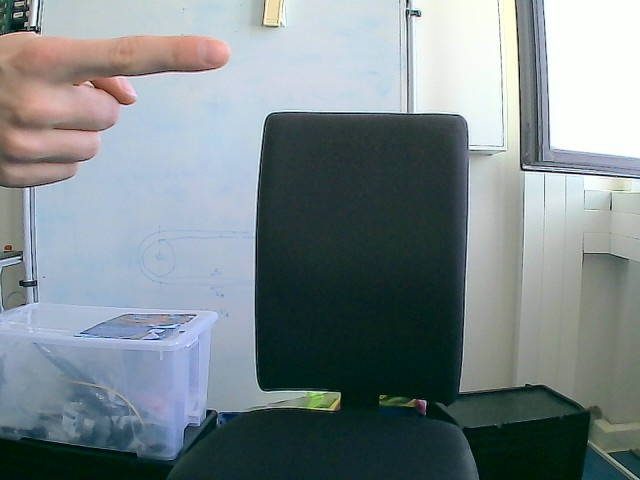left: (0, 29, 231, 189)
